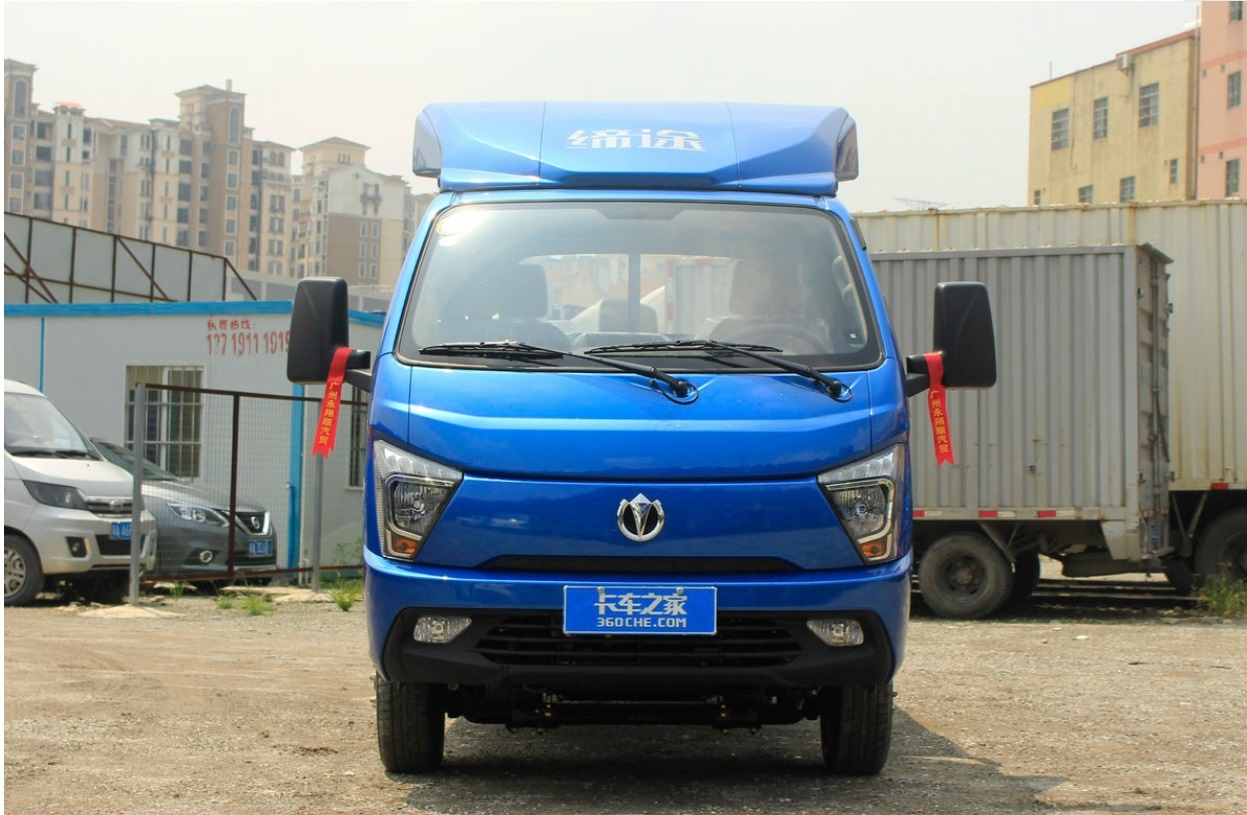truck: (302, 76, 987, 767)
